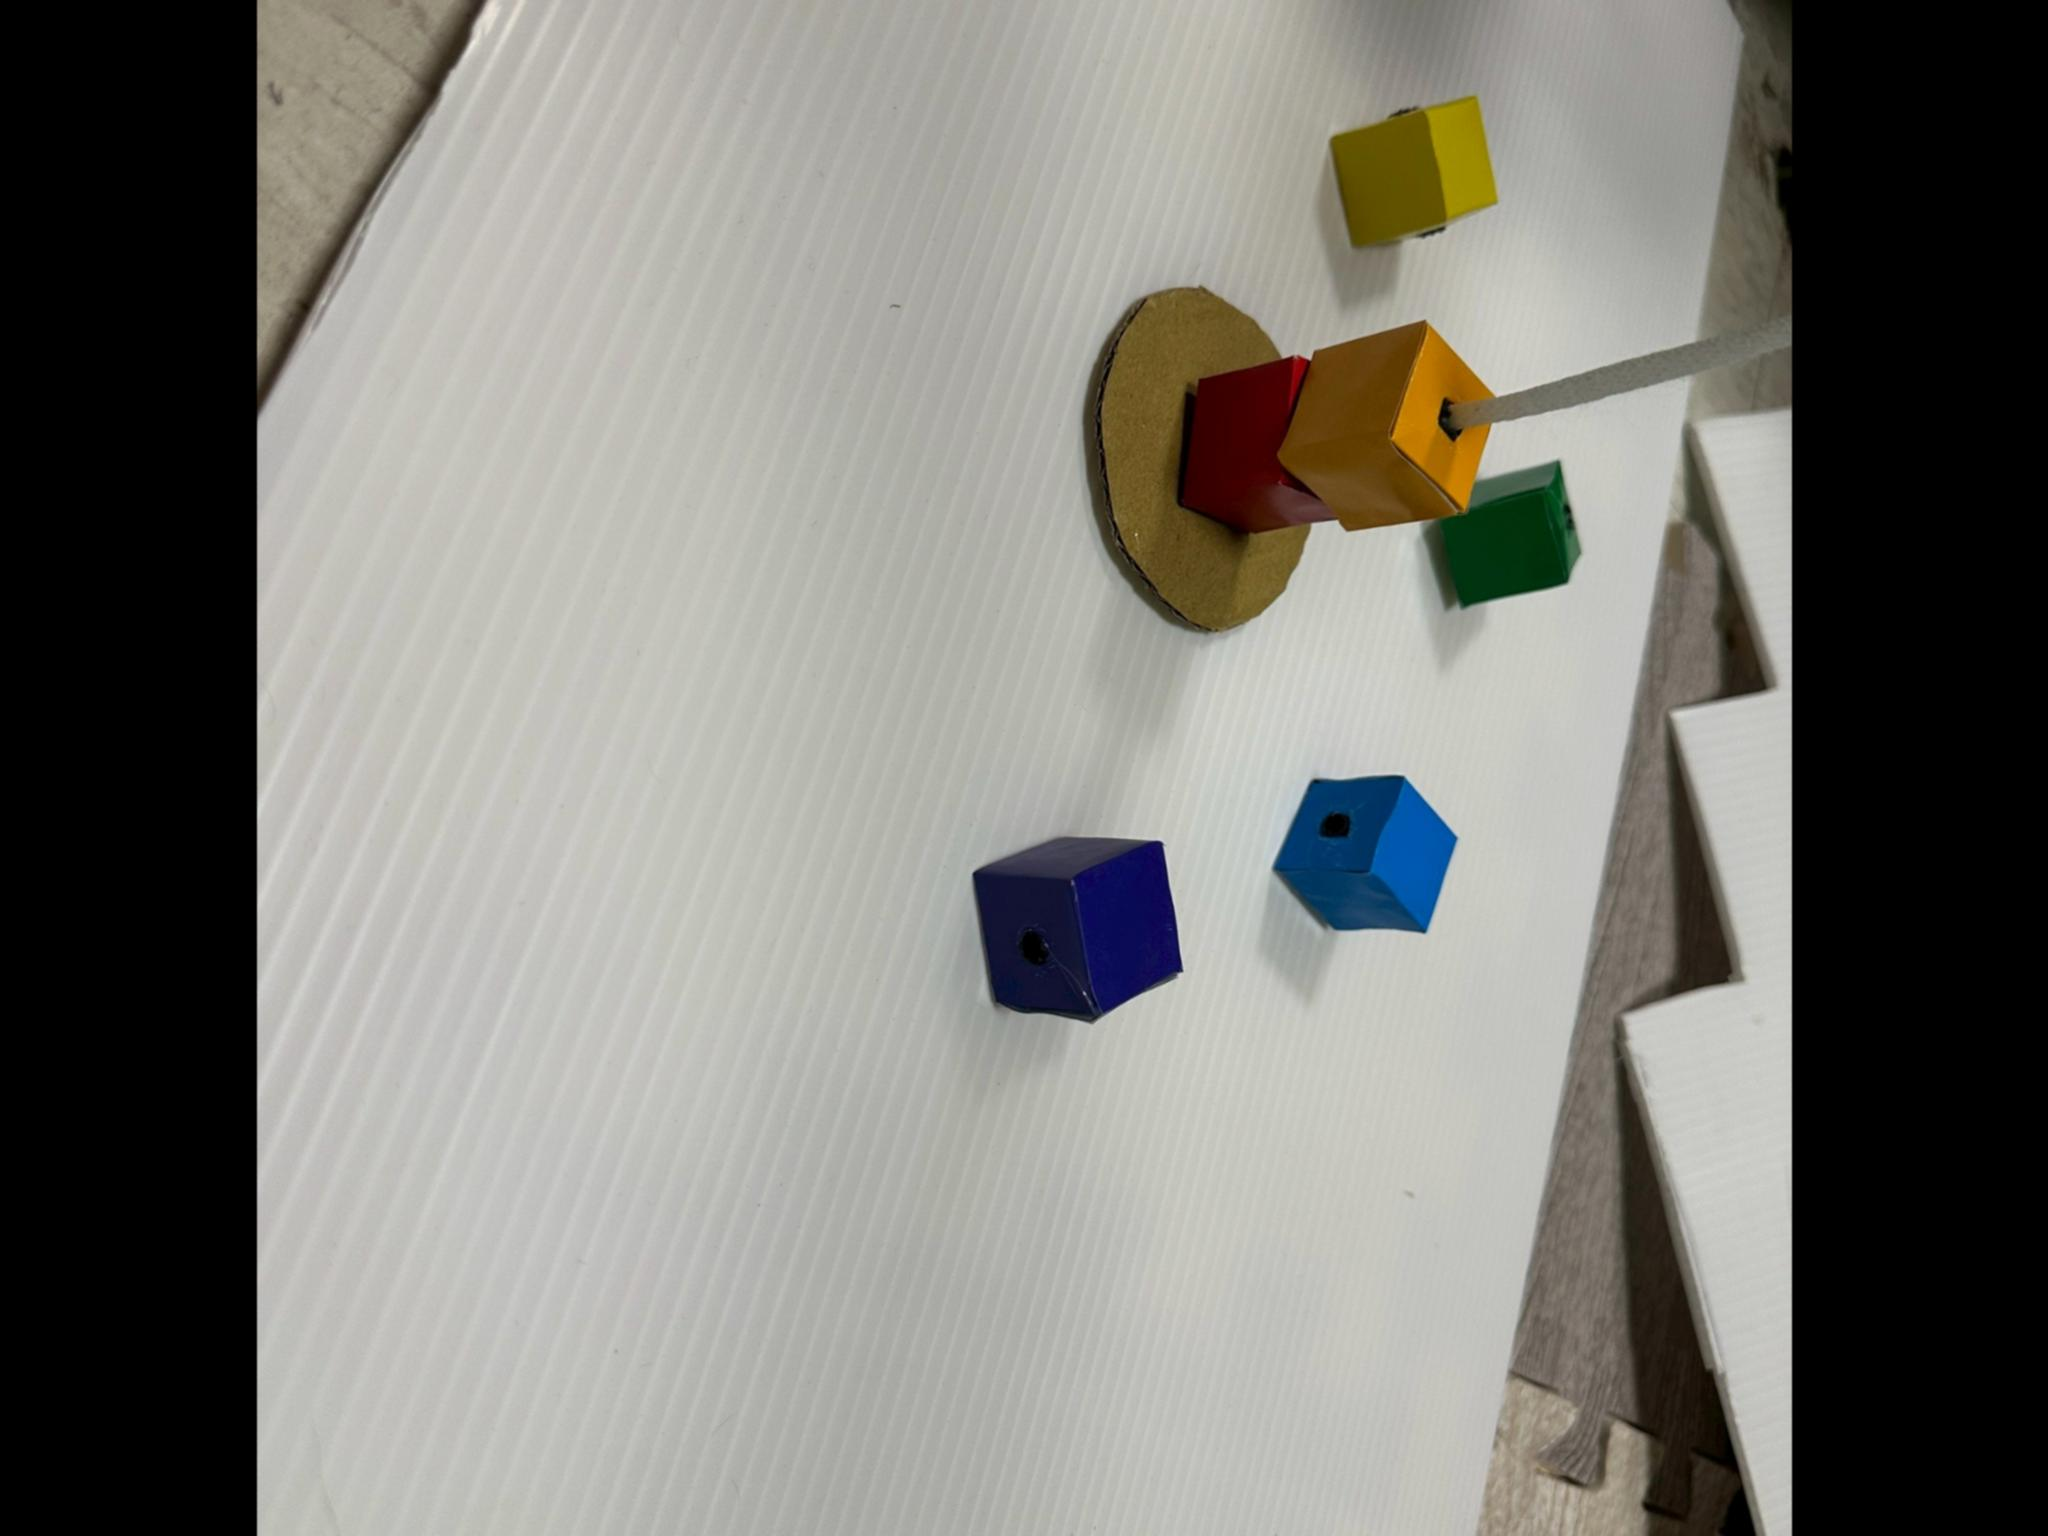base: (1098, 290, 1306, 632)
cube: (1280, 321, 1492, 529), (974, 837, 1180, 1020), (1276, 776, 1456, 931), (1179, 357, 1335, 532), (1332, 97, 1495, 245), (1437, 461, 1580, 607)
